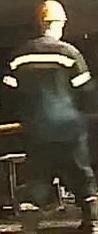helmet: (34, 0, 68, 22)
vest: (1, 39, 84, 144)
